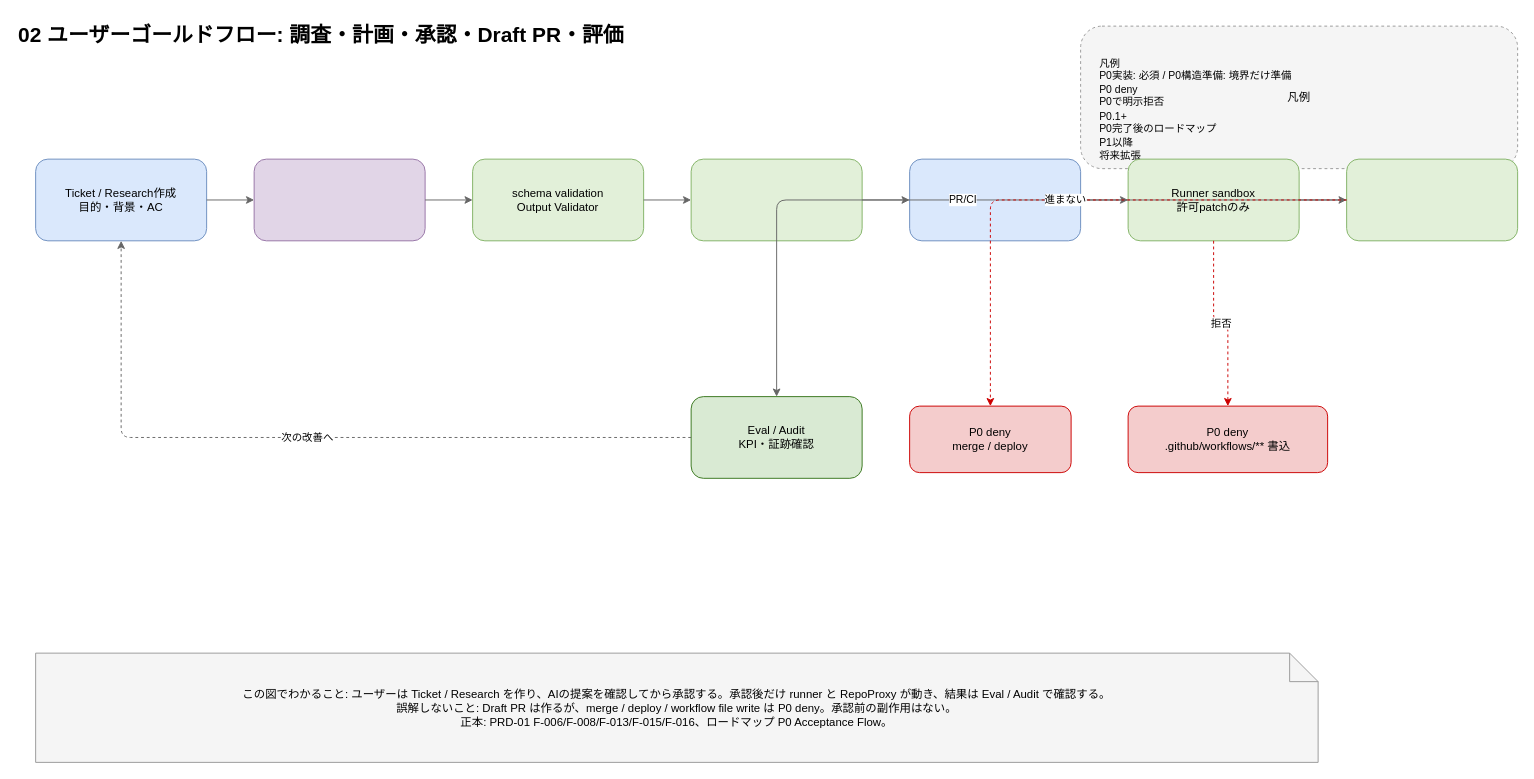
Some shapes in this 1534 by 779 pixel diagram are drawn without their labels. Here are the shapes that lost their labels. From the top down, the centre of each, then its label:
At (x=339, y=199): "AI計画生成 構造化artifact".
At (x=776, y=199): "Policy lint Action class判定".
At (x=995, y=199): "Approval Inbox 人間が承認/拒否".
At (x=1432, y=199): "RepoProxy Draft PR only".
